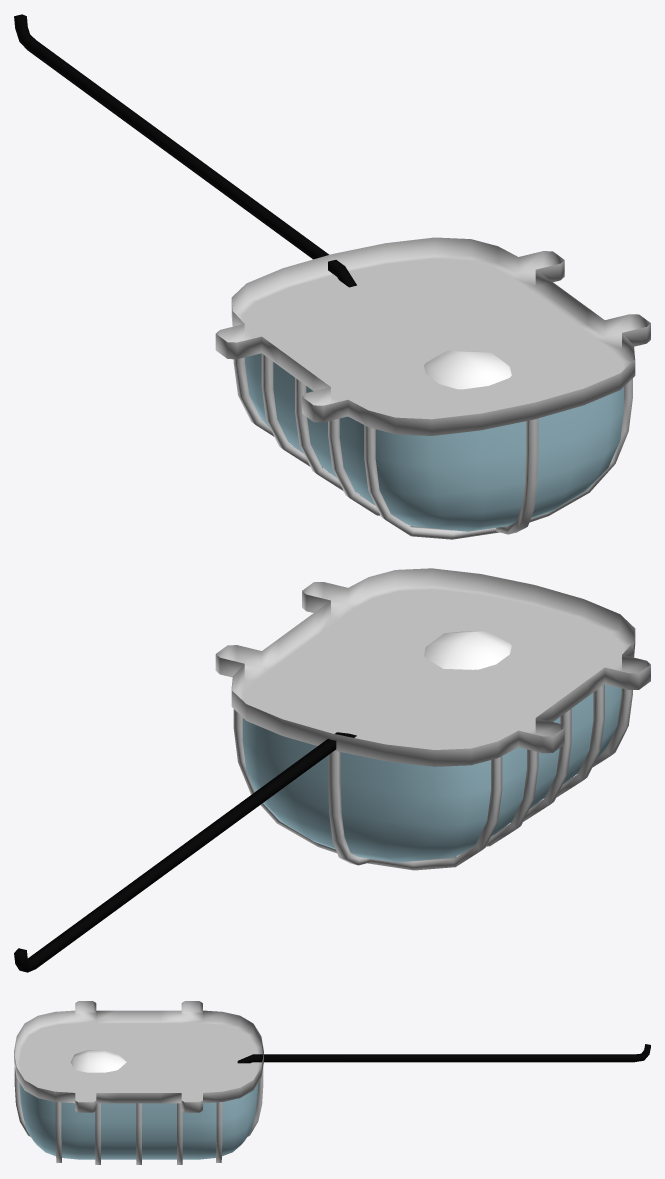
File: lamp.fbx
3 renders of one model, top to bottom at view 1: azimuth 30°, elevation 25°; view 2: azimuth 150°, elevation 25°; view 3: azimuth 270°, elevation 25°, orthographic. The views are drawn at different scales.
Parts seen in each view (by area): view 1: lamp; view 2: lamp; view 3: lamp.
Boxes of the visible parts, left/top/right/bottom form: lamp: left=14, top=14, right=650, bottom=539; lamp: left=14, top=568, right=650, bottom=972; lamp: left=14, top=1001, right=650, bottom=1164.
Size of the model in its own units: 0.2881 by 0.1366 by 0.7648.
